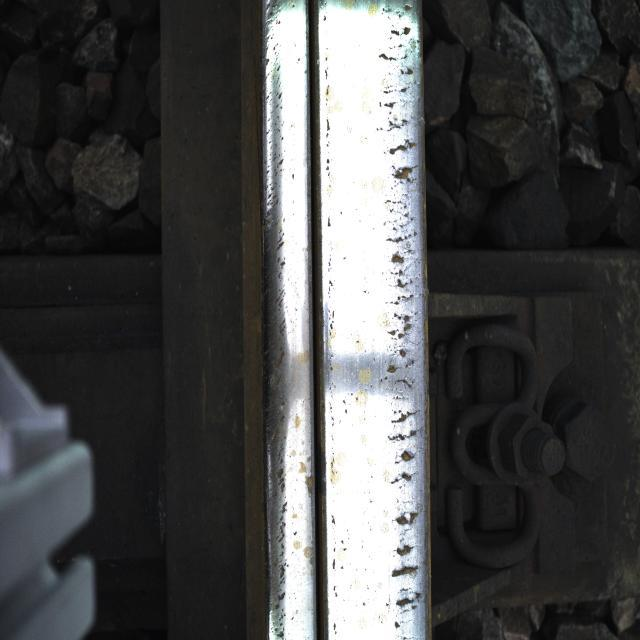crack: (363, 15, 428, 640)
